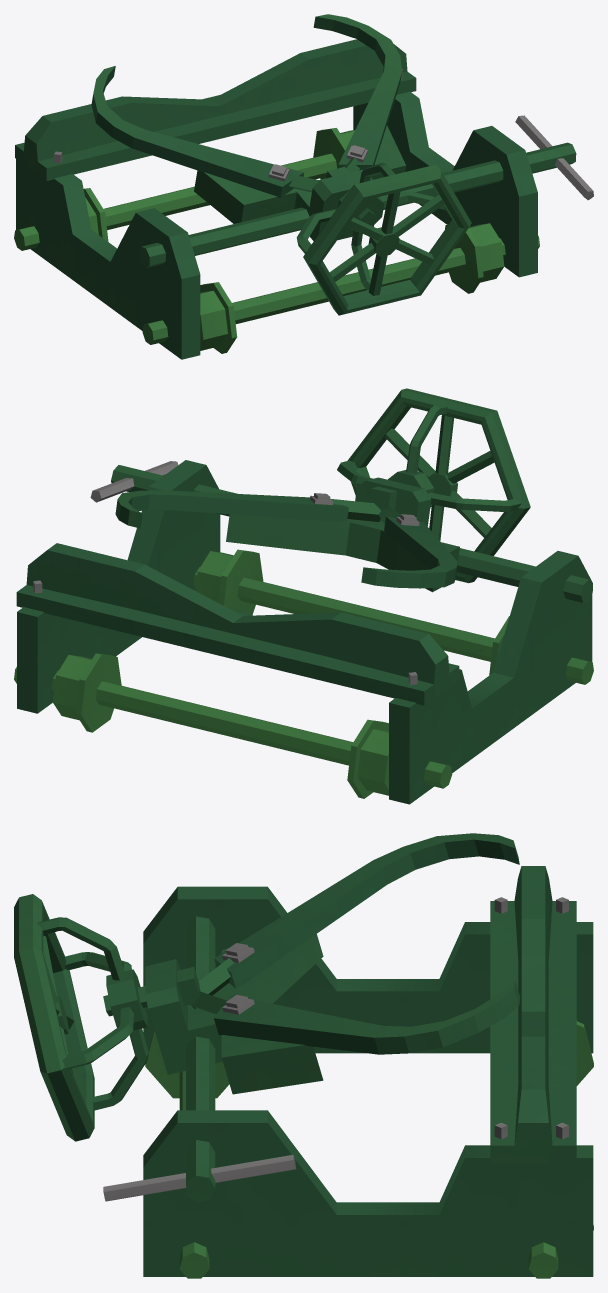
File: Vagonetka.fbx
The picture shows the model from 3 angles, top to bottom: view 1: azimuth 30°, elevation 25°; view 2: azimuth 150°, elevation 25°; view 3: azimuth 270°, elevation 25°; orthographic projection. The views are drawn at different scales.
Parts seen in each view (by area): view 1: polySurface164, polySurface84, polySurface168, polySurface166; view 2: polySurface164, polySurface84, polySurface166, polySurface168; view 3: polySurface164, polySurface84, polySurface168, polySurface166.
Boxes of the visible parts, <box> form: polySurface164: <box>15,39,537,359</box>; polySurface84: <box>91,14,593,315</box>; polySurface168: <box>142,223,539,353</box>; polySurface166: <box>14,128,354,250</box>; polySurface164: <box>16,460,592,804</box>; polySurface84: <box>90,388,592,602</box>; polySurface166: <box>14,653,452,798</box>; polySurface168: <box>193,549,593,684</box>; polySurface164: <box>143,866,593,1276</box>; polySurface84: <box>14,833,520,1202</box>; polySurface168: <box>145,1029,229,1278</box>; polySurface166: <box>528,1019,593,1278</box>.
Bounding box in the file's own units: 1.33 × 0.5719 × 1.16.
Materials: 1 (1 with a texture image).
